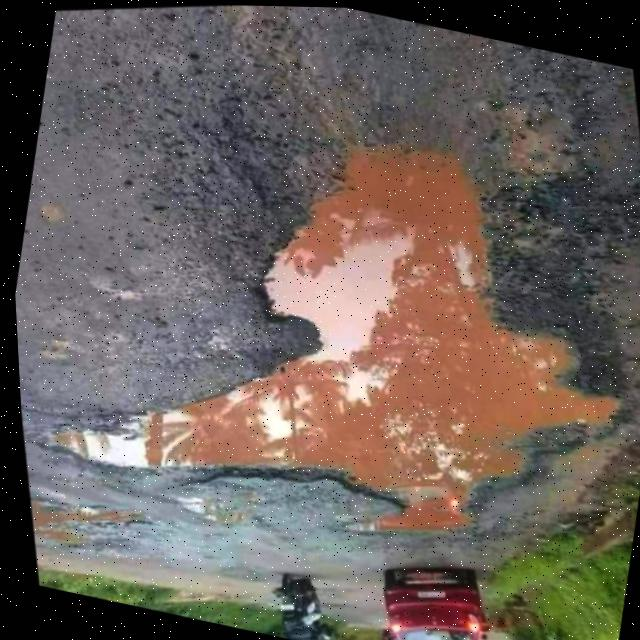Pothole: (0, 0, 640, 640), (18, 447, 186, 613)
